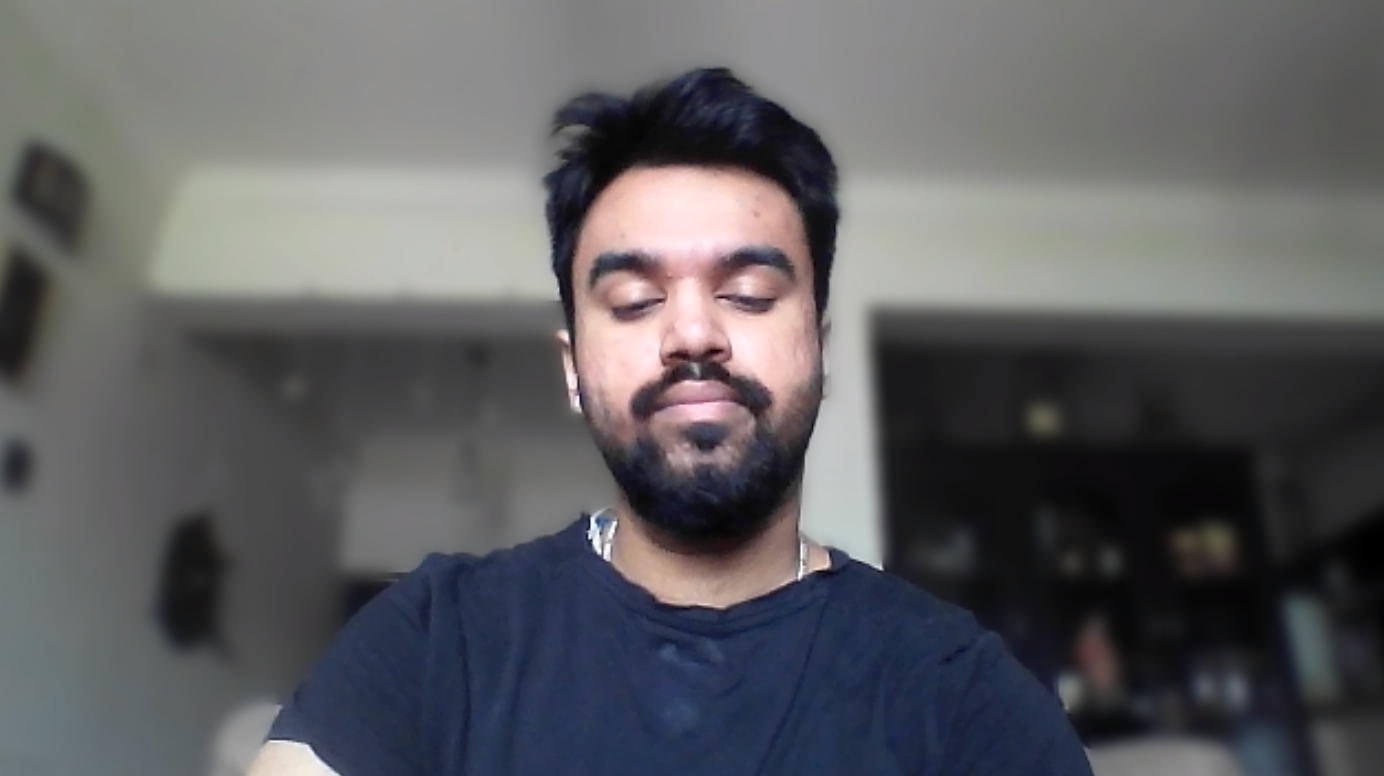NoMask: (576, 340, 828, 516)
